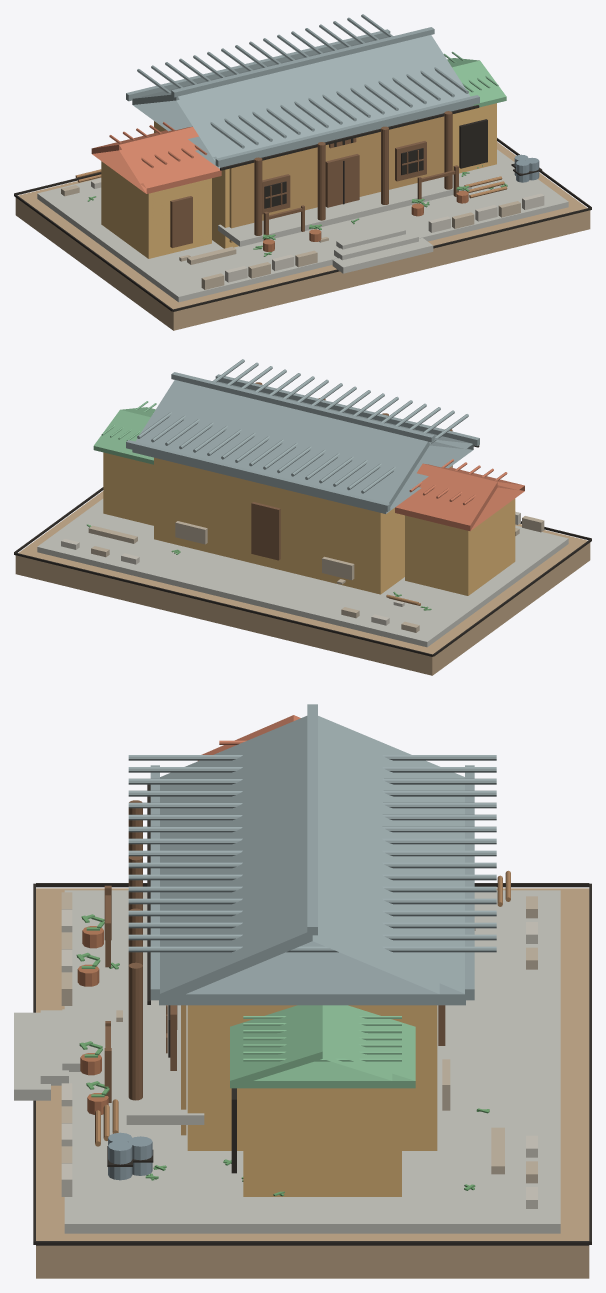
The model's file is VietnameseRuralHouse_PreFlood_A.glb.
3 renders of one model, top to bottom at view 1: azimuth 30°, elevation 25°; view 2: azimuth 150°, elevation 25°; view 3: azimuth 270°, elevation 25°, orthographic. The views are drawn at different scales.
Parts seen in each view (by area): view 1: large_grey_am_duong_tiled_roof_main, flood_prevention_concrete_plinth_top, raised_textured_diorama_earth_base_12x8, recessed_front_porch_shadow_band, left_attached_smaller_structure_ochre_wall, left_attached_red_tile_roof_profile, front_recessed_porch_concrete_floor, front_grey_roof_eave_line, main_roof_ridge_cap, large_central_double_wooden_door_front, back_grey_roof_eave_line, right_attached_green_corrugated_shed_wall (+18 smaller); view 2: flood_prevention_concrete_plinth_top, large_grey_am_duong_tiled_roof_main, main_CAP4_ochre_plaster_body_three_part, raised_textured_diorama_earth_base_12x8, left_attached_smaller_structure_ochre_wall, left_attached_red_tile_roof_profile, right_attached_green_corrugated_shed_wall, back_grey_roof_eave_line, main_roof_ridge_cap, right_attached_green_corrugated_metal_roof, front_grey_roof_eave_line, rear_single_wooden_door_center (+4 smaller); view 3: flood_prevention_concrete_plinth_top, large_grey_am_duong_tiled_roof_main, raised_textured_diorama_earth_base_12x8, right_attached_green_corrugated_shed_wall, right_attached_green_corrugated_metal_roof, main_CAP4_ochre_plaster_body_three_part, front_recessed_porch_concrete_floor, black_line_right_base_edge, wide_front_concrete_step_low, main_roof_ridge_cap, dark_wood_round_front_porch_column_4, wide_front_concrete_step_mid (+38 smaller).
Part boxes in pixels (<box>): large_grey_am_duong_tiled_roof_main: <box>132,35,473,168</box>; flood_prevention_concrete_plinth_top: <box>37,149,568,302</box>; raised_textured_diorama_earth_base_12x8: <box>15,142,590,330</box>; recessed_front_porch_shadow_band: <box>229,116,444,242</box>; left_attached_smaller_structure_ochre_wall: <box>101,161,211,258</box>; left_attached_red_tile_roof_profile: <box>91,126,221,193</box>; front_recessed_porch_concrete_floor: <box>218,174,471,246</box>; front_grey_roof_eave_line: <box>215,95,479,166</box>; main_roof_ridge_cap: <box>171,27,434,97</box>; large_central_double_wooden_door_front: <box>325,154,359,207</box>; back_grey_roof_eave_line: <box>126,29,390,101</box>; right_attached_green_corrugated_shed_wall: <box>452,103,496,173</box>; flood_prevention_concrete_plinth_top: <box>37,499,568,647</box>; large_grey_am_duong_tiled_roof_main: <box>132,380,473,513</box>; main_CAP4_ochre_plaster_body_three_part: <box>154,457,451,594</box>; raised_textured_diorama_earth_base_12x8: <box>15,491,590,675</box>; left_attached_smaller_structure_ochre_wall: <box>405,498,515,595</box>; left_attached_red_tile_roof_profile: <box>395,463,524,530</box>; right_attached_green_corrugated_shed_wall: <box>103,452,153,525</box>; back_grey_roof_eave_line: <box>126,440,390,511</box>; main_roof_ridge_cap: <box>171,372,434,442</box>; right_attached_green_corrugated_metal_roof: <box>93,407,155,464</box>; front_grey_roof_eave_line: <box>215,374,479,446</box>; rear_single_wooden_door_center: <box>251,502,280,560</box>; flood_prevention_concrete_plinth_top: <box>64,890,560,1233</box>; large_grey_am_duong_tiled_roof_main: <box>159,716,465,1005</box>; raised_textured_diorama_earth_base_12x8: <box>36,888,589,1278</box>; right_attached_green_corrugated_shed_wall: <box>243,1088,401,1196</box>; right_attached_green_corrugated_metal_roof: <box>230,1005,415,1088</box>; main_CAP4_ochre_plaster_body_three_part: <box>187,1005,437,1150</box>; front_recessed_porch_concrete_floor: <box>126,917,204,1124</box>; black_line_right_base_edge: <box>36,1241,589,1245</box>; wide_front_concrete_step_low: <box>14,1012,50,1100</box>; main_roof_ridge_cap: <box>307,704,317,935</box>; dark_wood_round_front_porch_column_4: <box>128,962,142,1100</box>; wide_front_concrete_step_mid: <box>40,1010,68,1085</box>.
Size of the model in its own units: 12.6 by 4.66 by 8.56.
